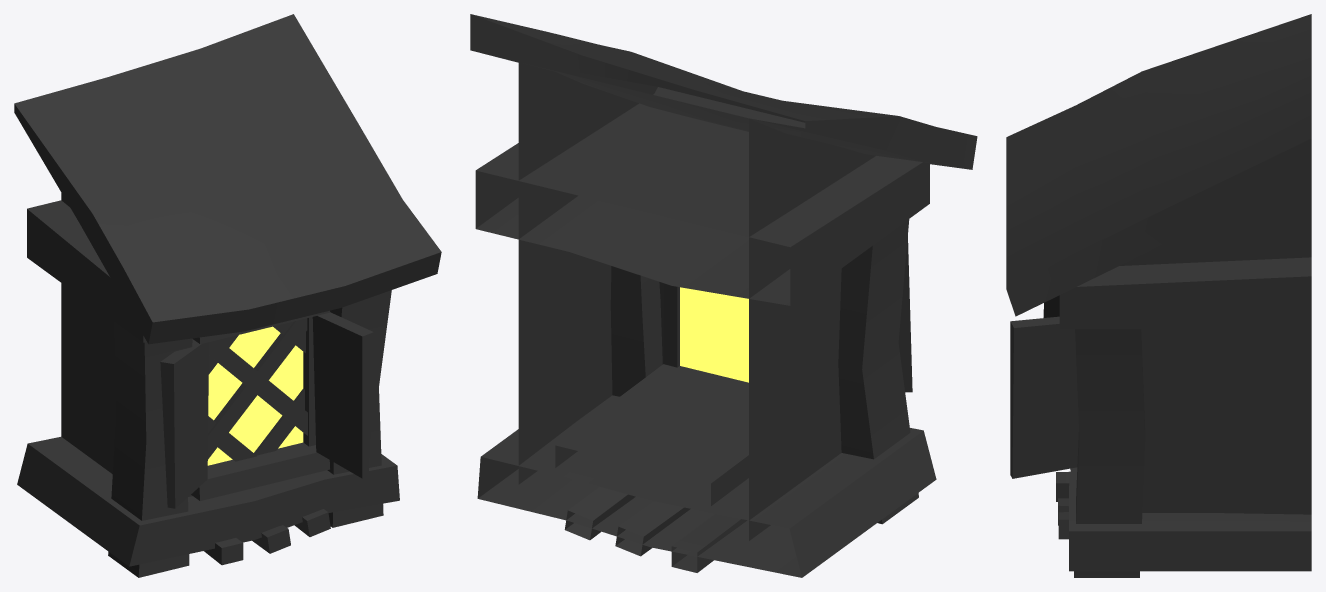
File: SM_BLD_window_v01_01.FBX
The picture shows the model from 3 angles, left to right: view 1: azimuth 30°, elevation 25°; view 2: azimuth 150°, elevation 25°; view 3: azimuth 270°, elevation 25°; orthographic projection. The views are drawn at different scales.
Visible parts, largest first — view 1: SM_BLD_window_v01_01; view 2: SM_BLD_window_v01_01; view 3: SM_BLD_window_v01_01.
Boxes of the visible parts, x1,y1,x2,y2 form: SM_BLD_window_v01_01: [14, 14, 441, 577]; SM_BLD_window_v01_01: [470, 14, 977, 577]; SM_BLD_window_v01_01: [1006, 14, 1311, 577].
Bounding box in the file's own units: 239 × 202 × 332.
